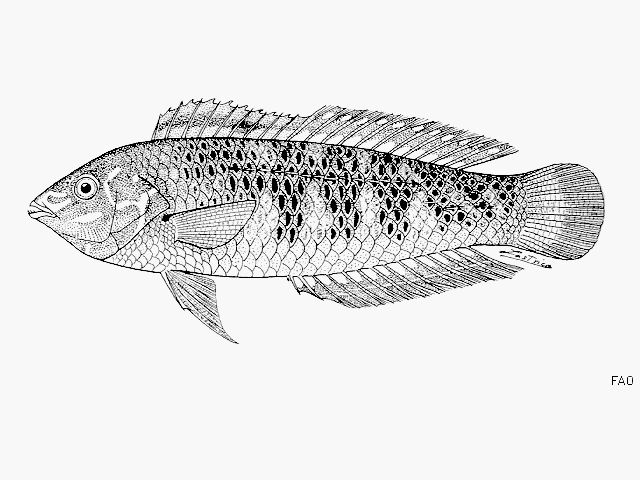fish: (26, 98, 604, 345)
